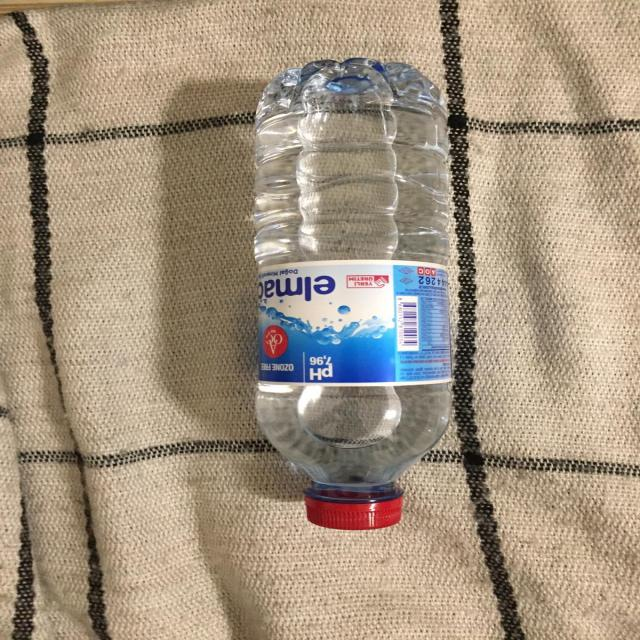bottle: (228, 51, 473, 550)
